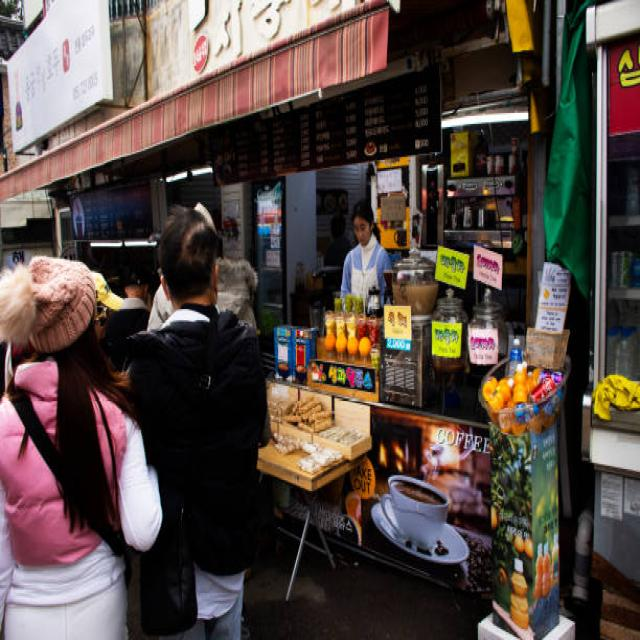Emperan: (199, 53, 578, 640)
